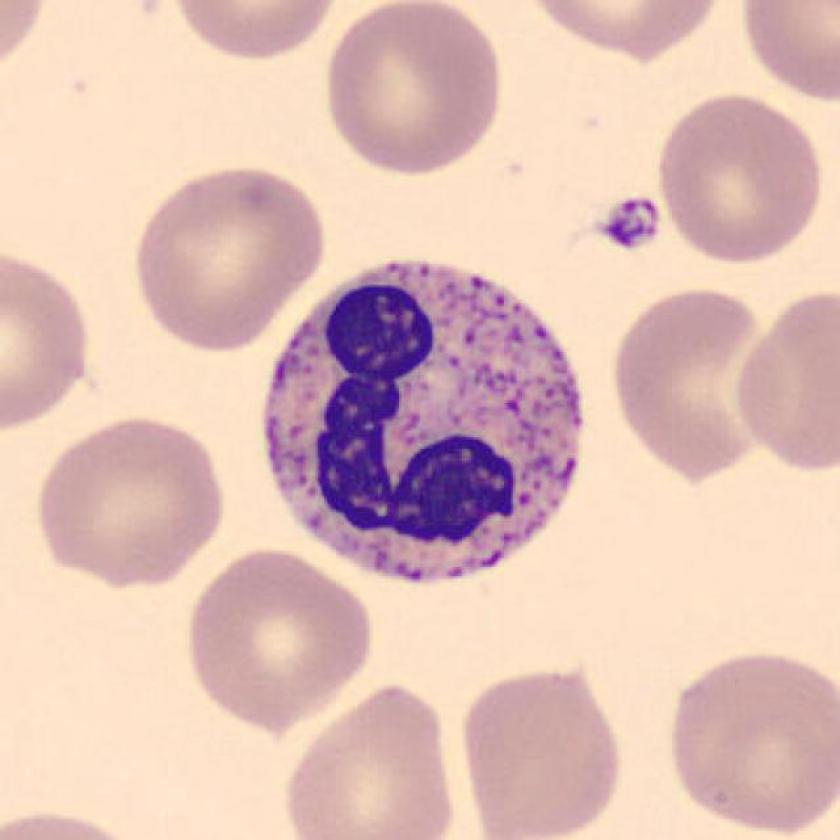neutrophil: (261, 261, 582, 585)
